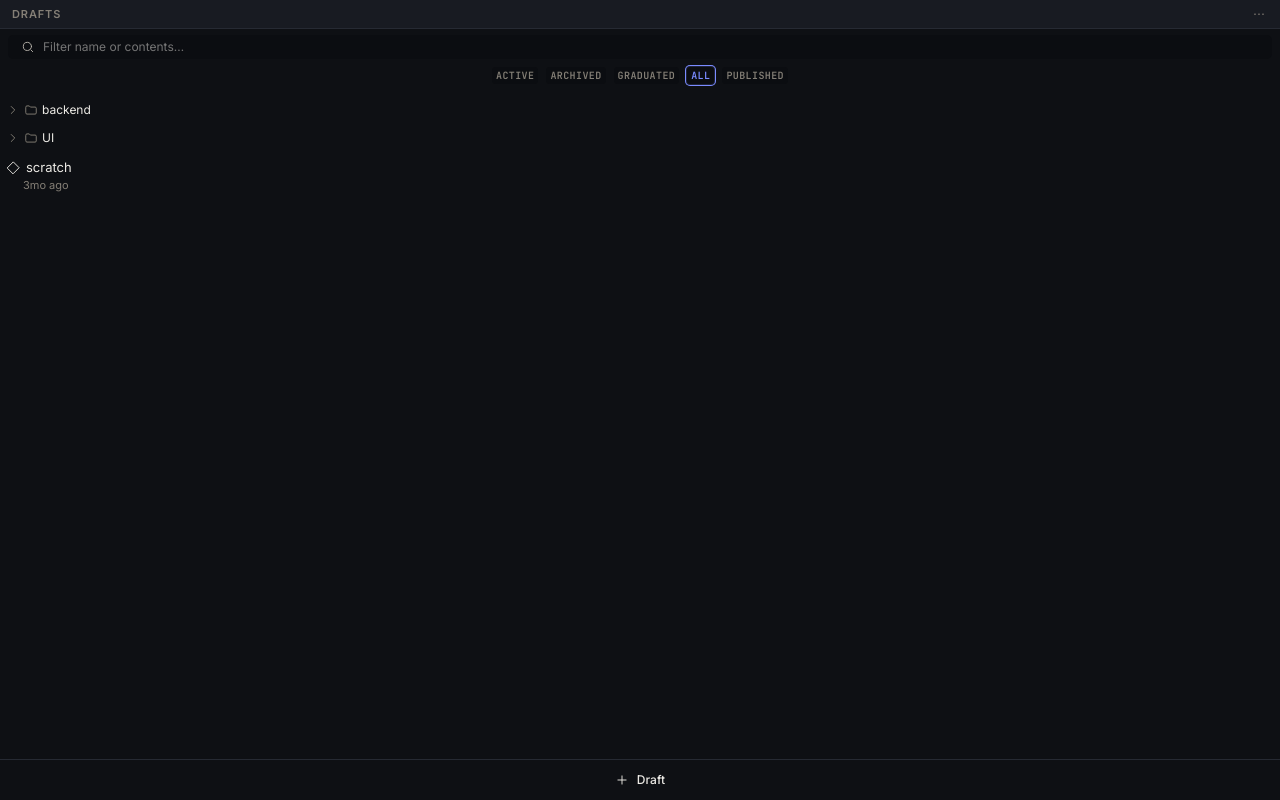
it: Drafts panel (DRP-drafts-panel.md) › DRP-FR-13: collapsing a filter-revealed folder does not persist an expansion
The width and height of the screenshot is (1280, 800).
Check: the text "scratch" is shown, box [26, 158, 72, 178]
Type "button" into the field named "Filter drafts". click: (651, 47)
box: [43, 38, 1259, 56]
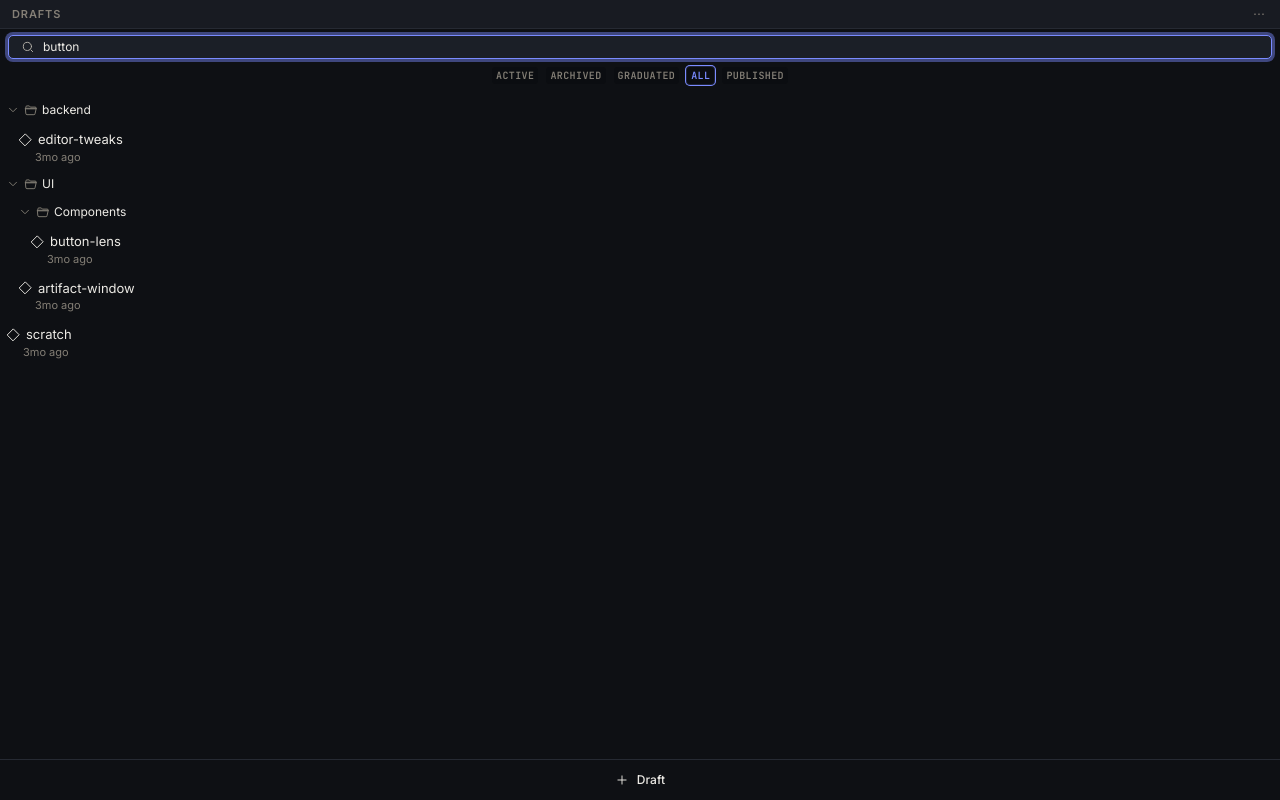
Check: the text "button-lens" is shown, box [50, 232, 121, 252]
Click the list item with aria-label "Folder UI". click: (30, 184)
box: [6, 176, 54, 191]
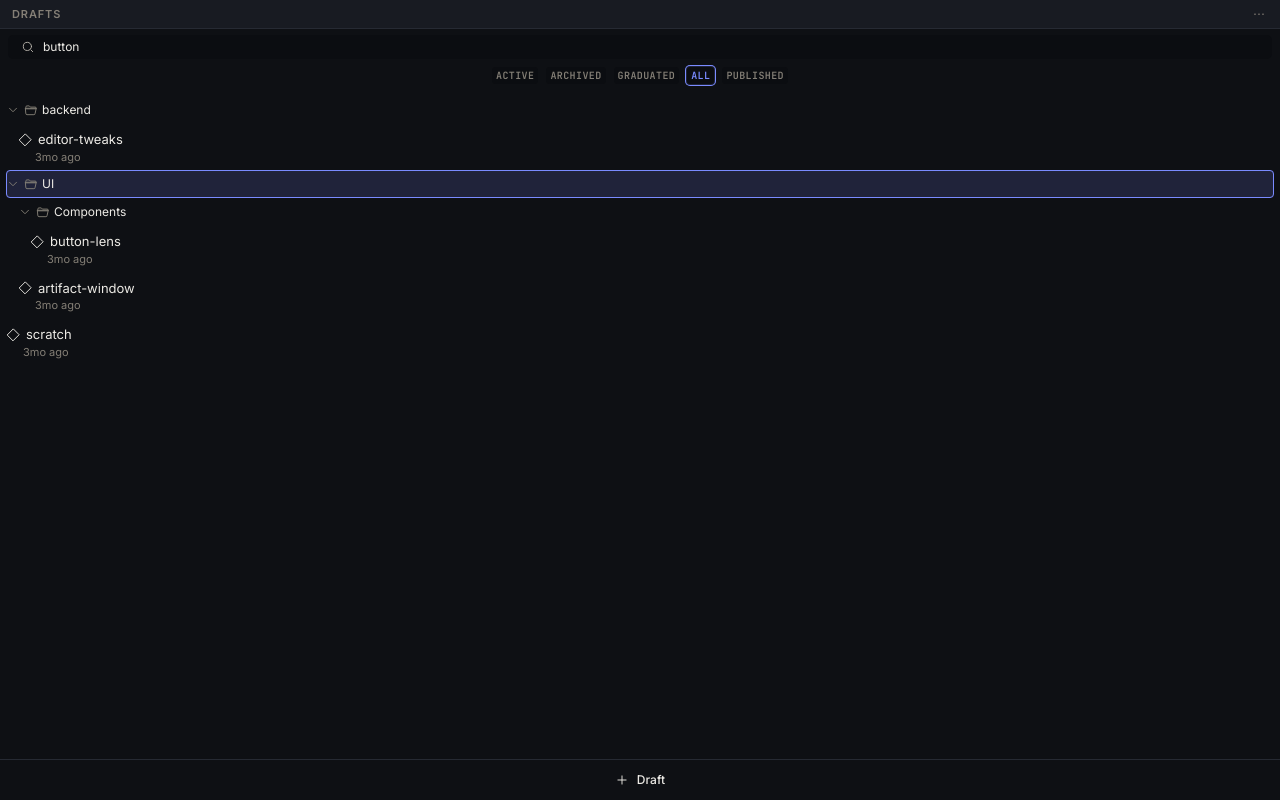
Clear the field named "Filter drafts". click: (651, 47)
box: [43, 38, 1259, 56]
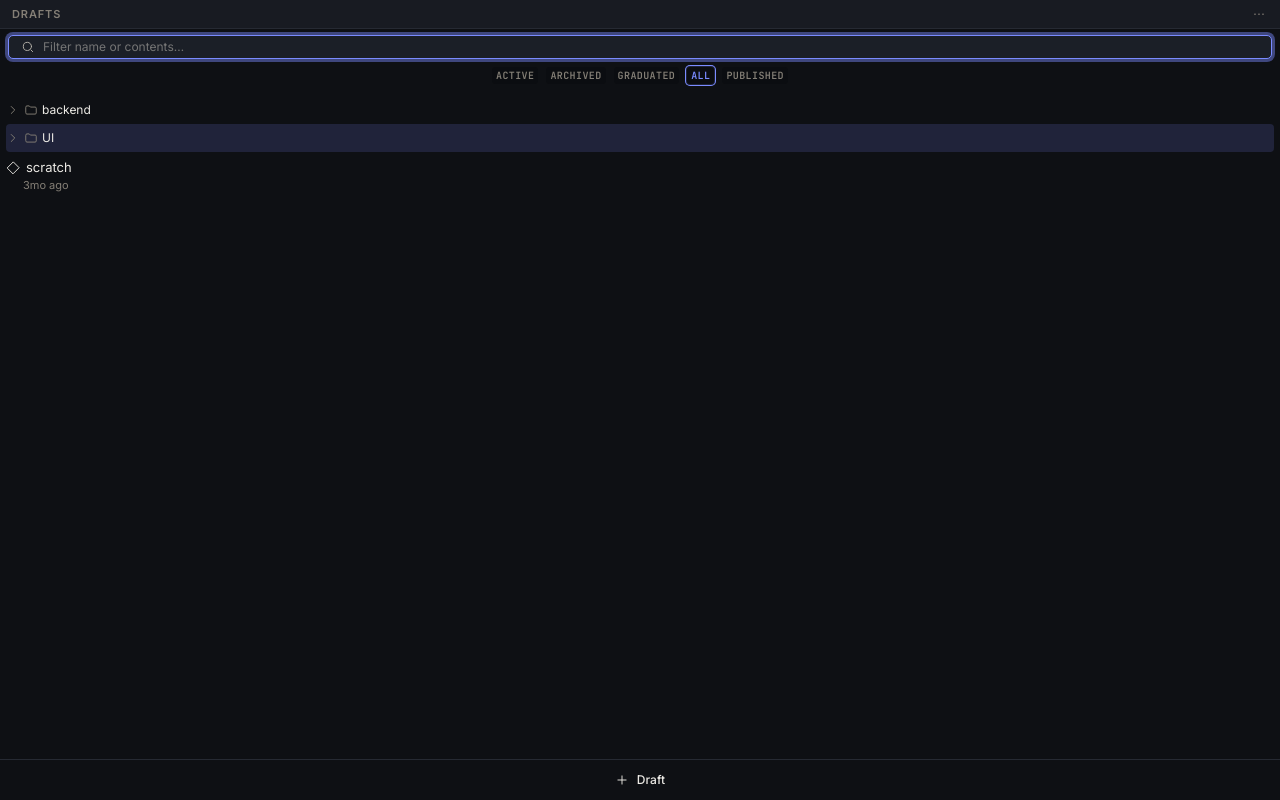
Check: the text "button-lens" is gone
Check: the list item with aria-label "Folder UI" is collapsed, box [6, 124, 1274, 152]
